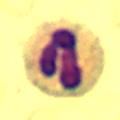eosi: (21, 18, 106, 97)
